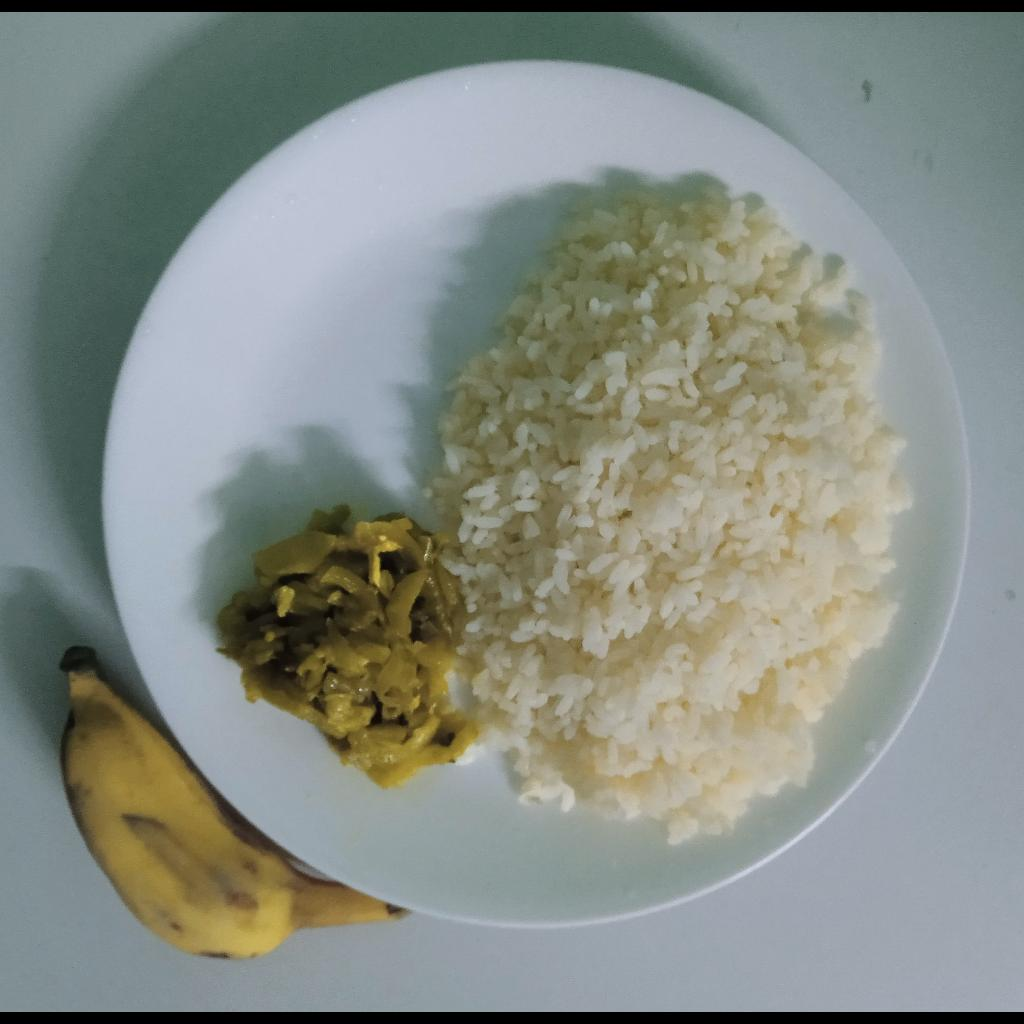banana: (62, 644, 416, 960)
rice: (438, 183, 911, 843)
vegetable: (216, 506, 473, 789)
